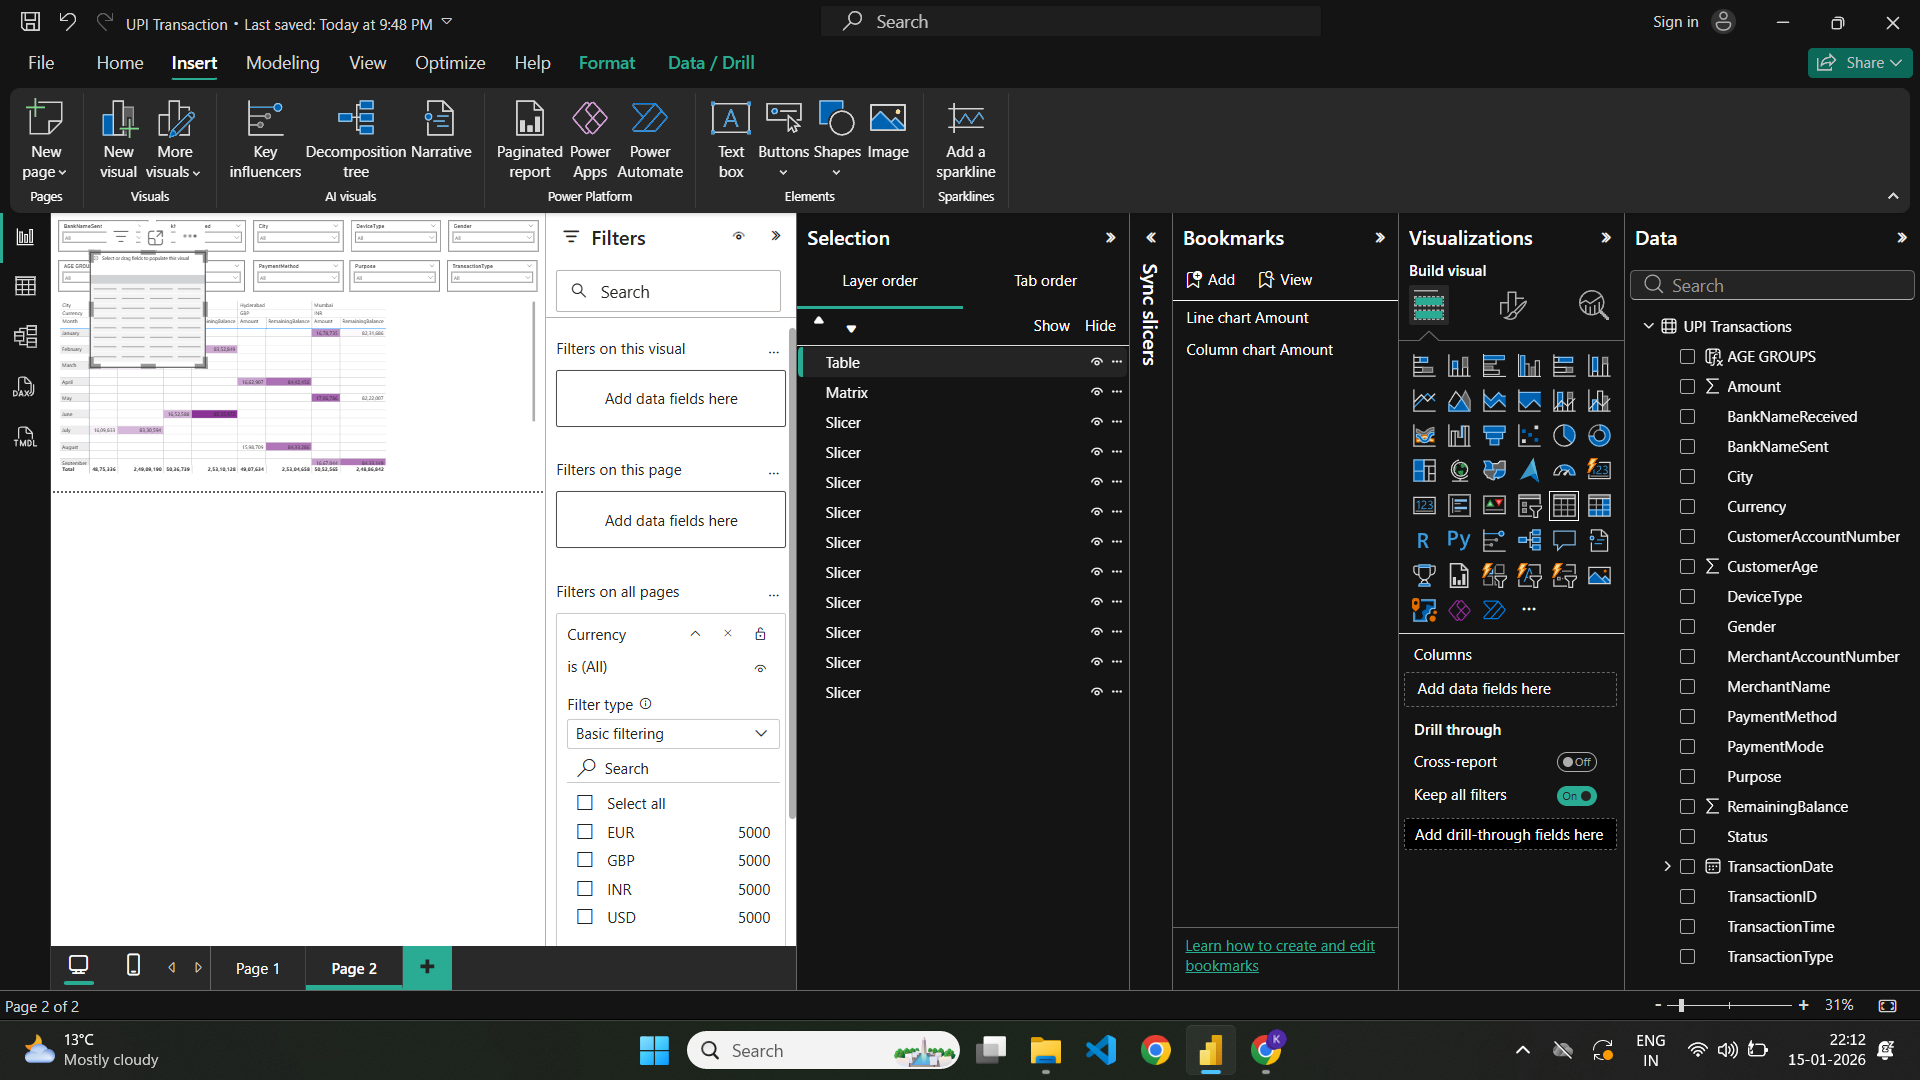

What the dashboard file says about the page in this screenshot:
{"tool":"powerbi","page":{"name":"Page 2","canvas":[1280,720],"ordinal":1},"visuals":[{"type":"slicer","fields":{"Values":["UPI Transactions.BankNameSent"]},"box":[20,20,232,80],"z":0},{"type":"slicer","fields":{"Values":["UPI Transactions.BankNameReceived"]},"box":[271.2,19.9,232.6,79.6],"z":1000},{"type":"slicer","fields":{"Values":["UPI Transactions.City"]},"box":[524,20,232.6,79.6],"z":2000},{"type":"slicer","fields":{"Values":["UPI Transactions.DeviceType"]},"box":[776,20,232.6,79.6],"z":3000},{"type":"slicer","fields":{"Values":["UPI Transactions.Gender"]},"box":[1028,20,232.6,79.6],"z":4000},{"type":"slicer","fields":{"Values":["UPI Transactions.AGE GROUPS"]},"box":[19.9,121.9,232.6,79.6],"z":5000},{"type":"slicer","fields":{"Values":["UPI Transactions.MerchantName"]},"box":[270.2,121.5,232.6,79.6],"z":6000},{"type":"slicer","fields":{"Values":["UPI Transactions.PaymentMethod"]},"box":[523.1,121.6,232.6,79.6],"z":7000},{"type":"slicer","fields":{"Values":["UPI Transactions.Purpose"]},"box":[775.1,121.6,232.6,79.6],"z":8000},{"type":"slicer","fields":{"Values":["UPI Transactions.TransactionType"]},"box":[1027.1,121.6,232.6,79.6],"z":9000},{"type":"pivotTable","fields":{"Values":["UPI Transactions.Amount","UPI Transactions.RemainingBalance"],"Rows":["UPI Transactions.TransactionDate.Variation.Date Hierarchy.Month"],"Columns":["UPI Transactions.City","UPI Transactions.Currency"]},"box":[19.9,222.7,1240.2,455.3],"z":9001}]}

Visuals, with their boxes on the page's 1280x720 design canvas (x1, y1, x2, y2). These are canvas units, not pixel positions in the 1920x1080 screenshot, which may show the page scaled, cropped or inside an application window:
slicer - UPI Transactions.BankNameSent: Rect(20, 20, 252, 100)
slicer - UPI Transactions.BankNameReceived: Rect(271, 20, 504, 100)
slicer - UPI Transactions.City: Rect(524, 20, 757, 100)
slicer - UPI Transactions.DeviceType: Rect(776, 20, 1009, 100)
slicer - UPI Transactions.Gender: Rect(1028, 20, 1261, 100)
slicer - UPI Transactions.AGE GROUPS: Rect(20, 122, 252, 202)
slicer - UPI Transactions.MerchantName: Rect(270, 122, 503, 201)
slicer - UPI Transactions.PaymentMethod: Rect(523, 122, 756, 201)
slicer - UPI Transactions.Purpose: Rect(775, 122, 1008, 201)
slicer - UPI Transactions.TransactionType: Rect(1027, 122, 1260, 201)
pivotTable - UPI Transactions.Amount x UPI Transactions.RemainingBalance: Rect(20, 223, 1260, 678)
